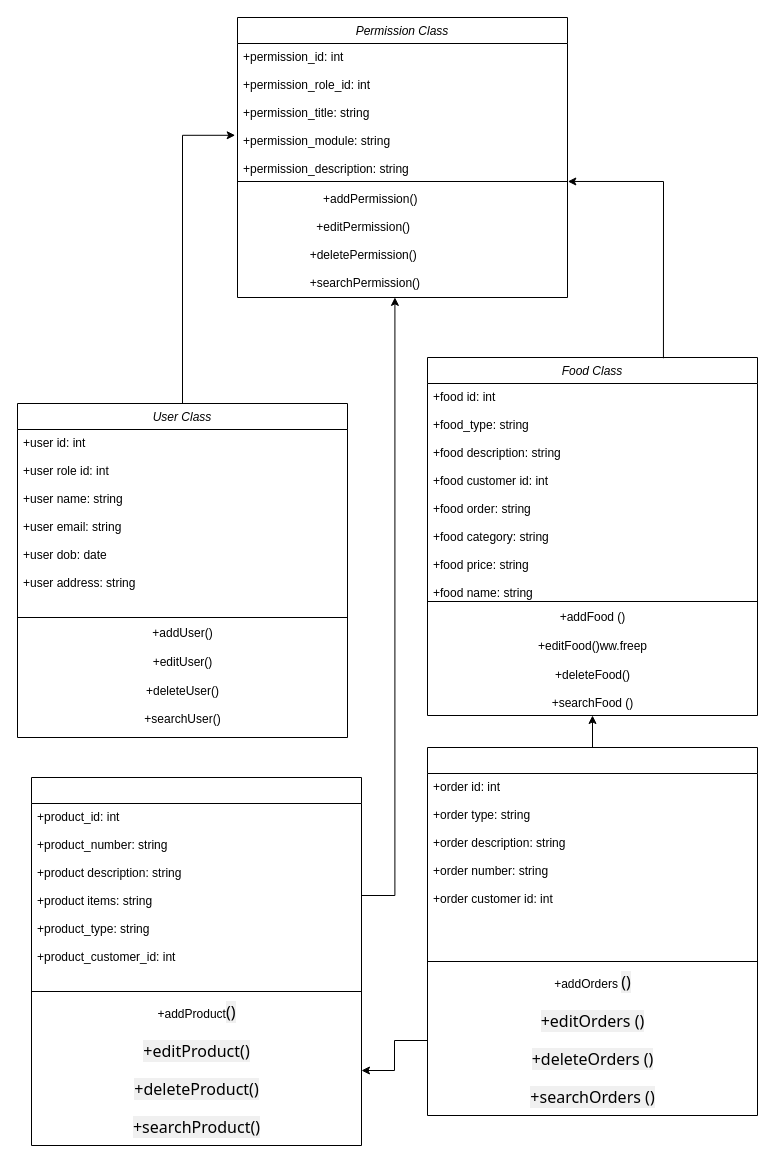
Some shapes in this 775 by 1163 pixel diagram are drawn without their labels. The shapes that lost their labels are listed below. From the top down, each one's box as (x1, y1, x2, y2) in pixels, then its label:
(426, 746, 758, 1116): Order Class
(30, 776, 362, 1146): Product Class
